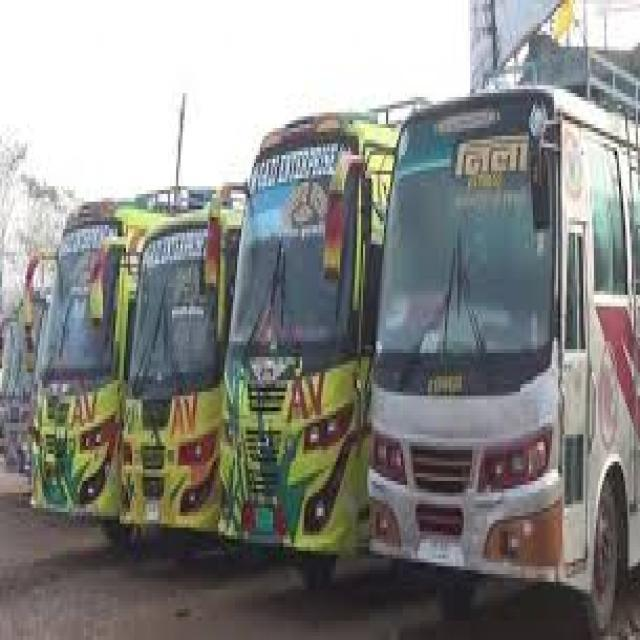bus: (367, 82, 638, 636), (219, 111, 396, 587), (29, 198, 168, 518)
